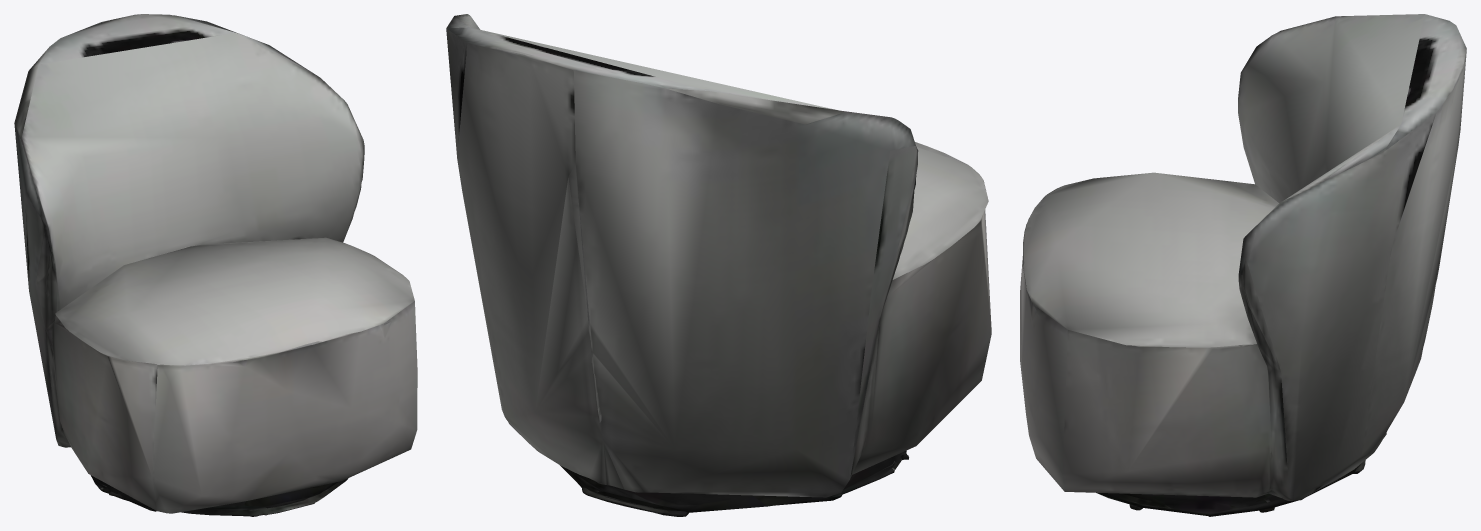
Rendered from swivel-chair.lod2.glb.
3 renders of one model, left to right at view 1: azimuth 30°, elevation 25°; view 2: azimuth 150°, elevation 25°; view 3: azimuth 270°, elevation 25°, orthographic. The views are drawn at different scales.
Parts seen in each view (by area): view 1: geometry_0; view 2: geometry_0; view 3: geometry_0.
Part boxes in pixels (box(x1,y1,x2,y2)): geometry_0: box(14, 14, 417, 516); geometry_0: box(446, 14, 991, 516); geometry_0: box(1020, 14, 1466, 516).
Bounding box in the file's own units: 0.7533 × 0.8014 × 0.8049.
Materials: 1 (1 with a texture image).
